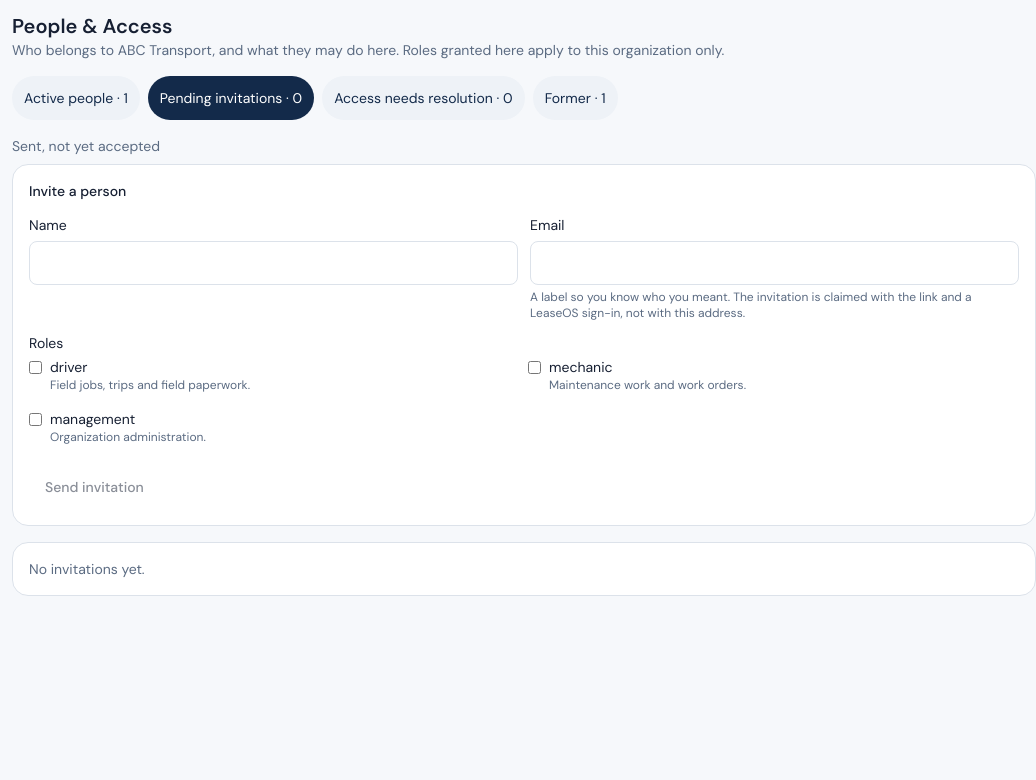
Pending invitations › refuses to send with no role chosen
expect the button "Send invitation" is disabled: met, box [29, 465, 160, 509]
Click the checkbox labelled "driver Field jobs, trips and field paperwork.". click: (36, 368)
box: [29, 361, 42, 374]
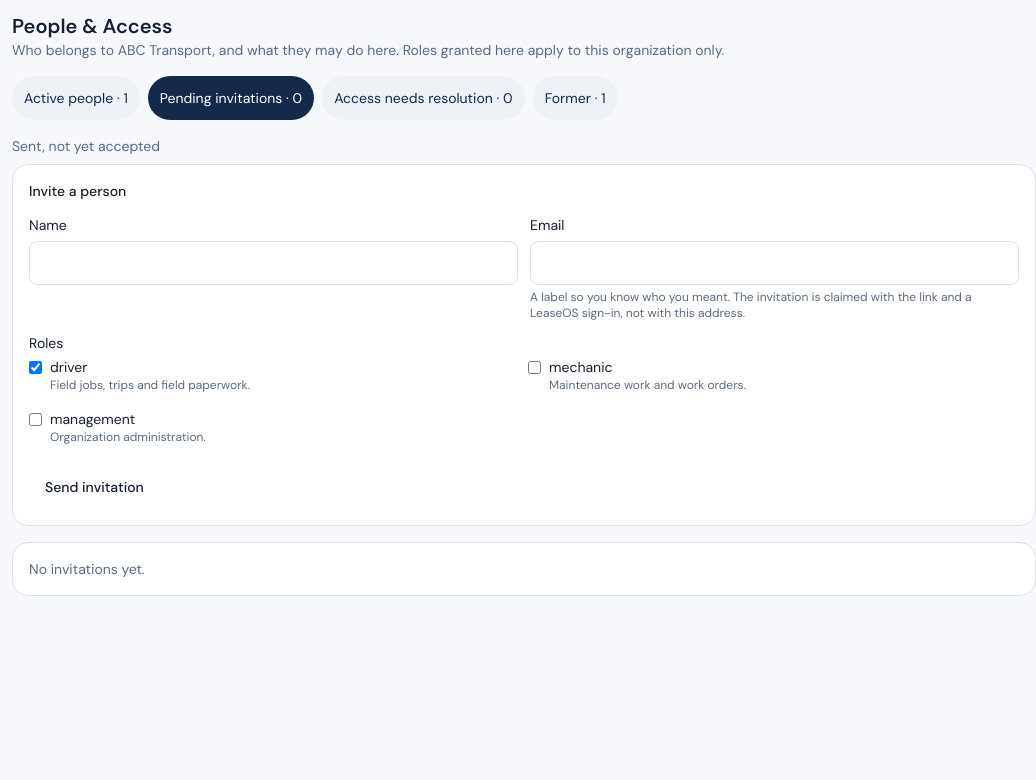
expect the button "Send invitation" is enabled: met, box [29, 465, 160, 509]
